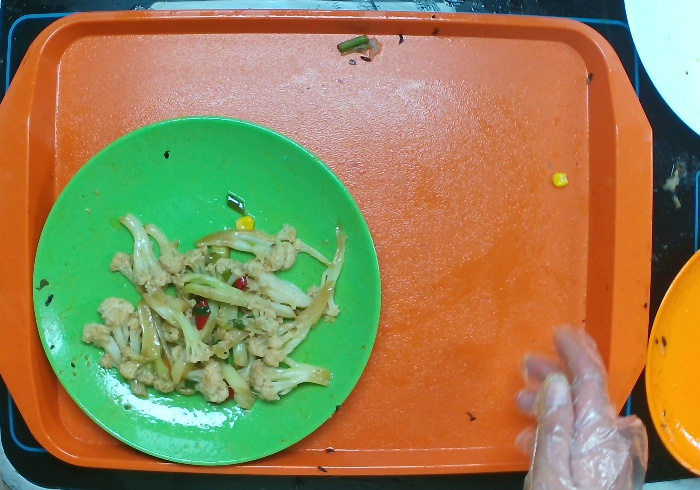HZYJPL-Lv_Se_Yuan_Pan: (28, 115, 381, 465)
